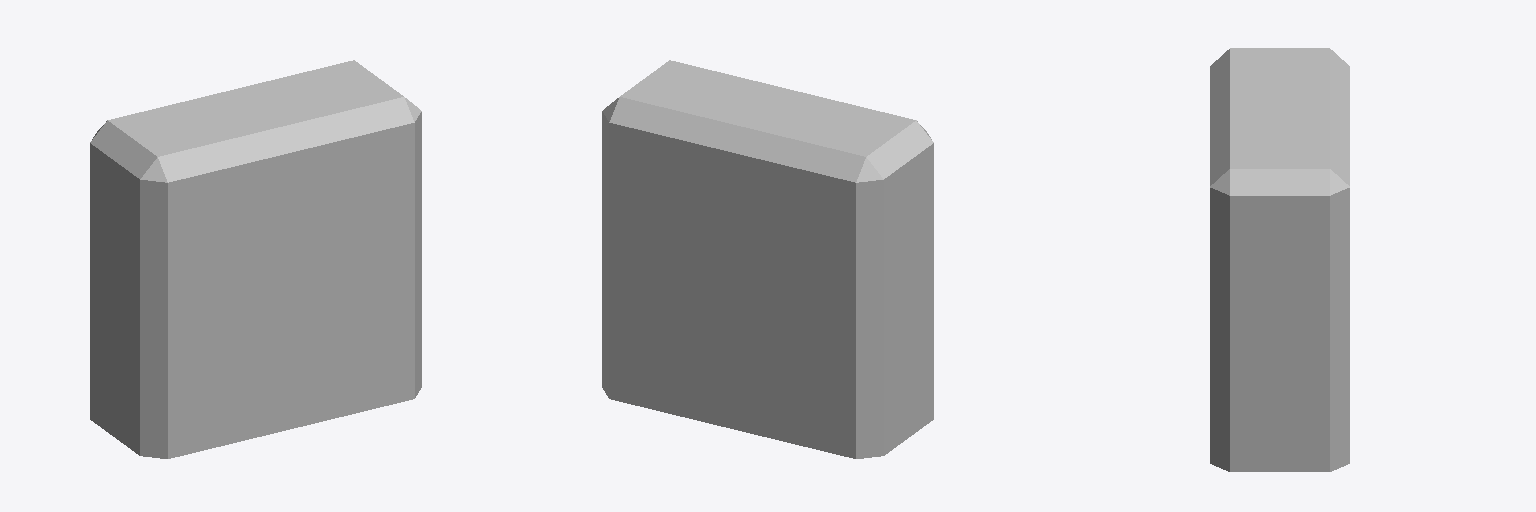
File: wall2.obj
3 views of the same model, side by side, from view 1: azimuth 30°, elevation 25°; view 2: azimuth 150°, elevation 25°; view 3: azimuth 270°, elevation 25° (orthographic).
Visible parts, largest first — view 1: Cube.003_Cube.002; view 2: Cube.003_Cube.002; view 3: Cube.003_Cube.002.
Part boxes in pixels (x1,y1,x2,y2): Cube.003_Cube.002: (90, 60, 421, 458); Cube.003_Cube.002: (602, 60, 933, 458); Cube.003_Cube.002: (1210, 48, 1349, 471).
Bounding box in the file's own units: 2 × 2 × 0.8658.